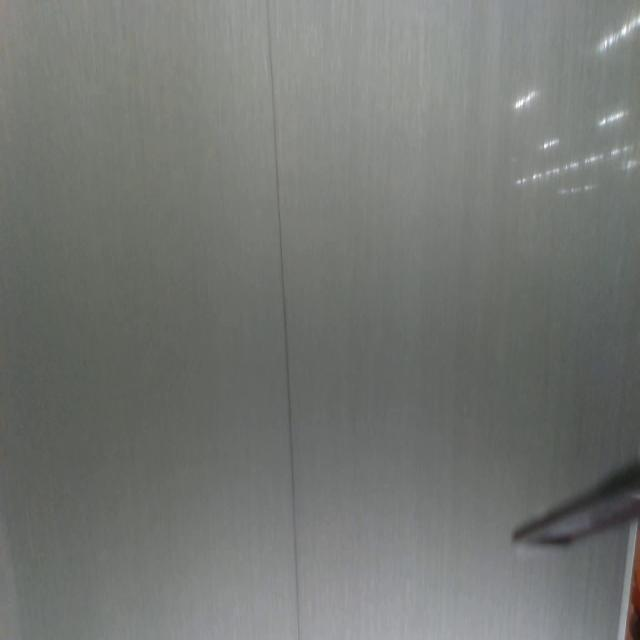crease: (265, 0, 302, 638)
